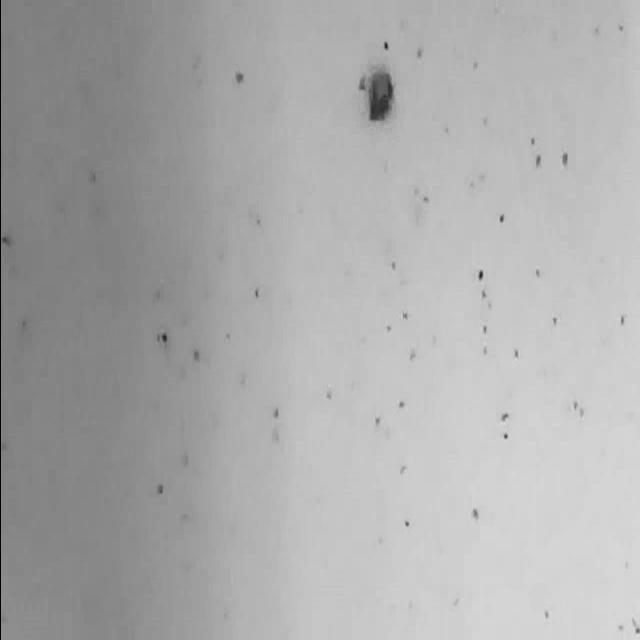larvas: (366, 68, 394, 120)
